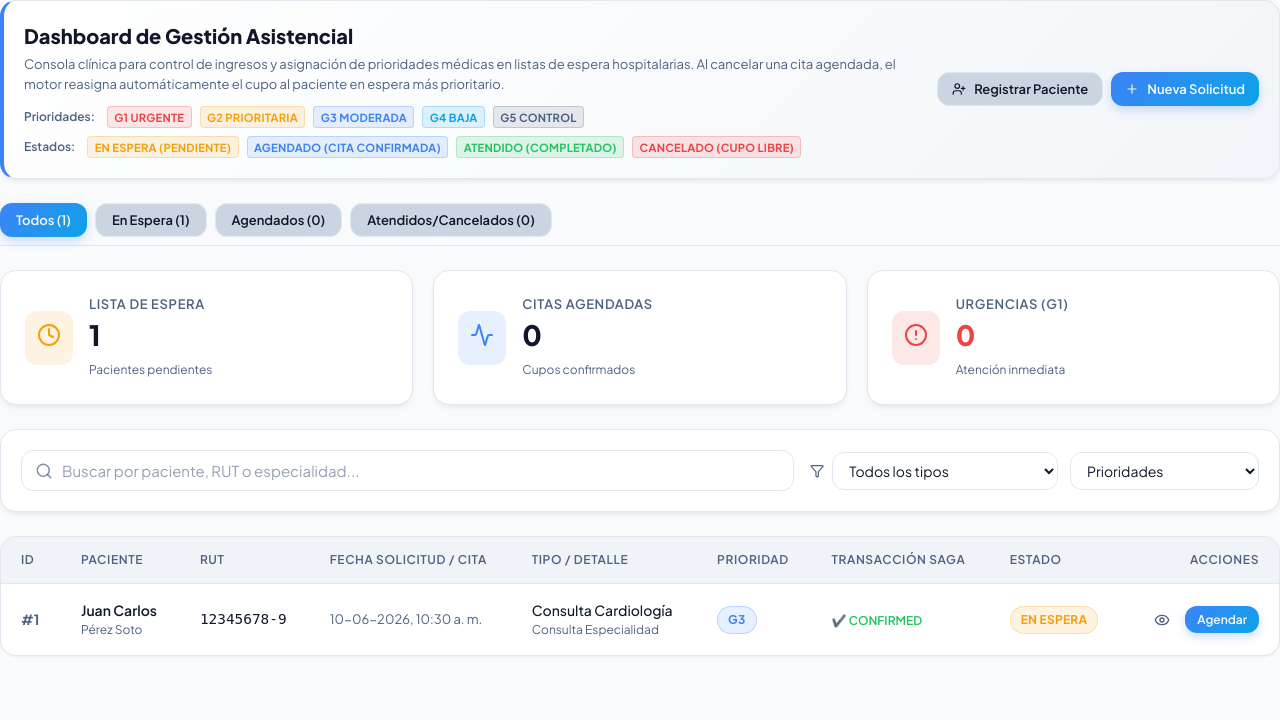
ListaEsperaContainer › debe mostrar error de validación local si faltan campos en el formulario de atención
Click the button "Nueva Solicitud".
click(1185, 90)  # box [1111, 72, 1259, 106]
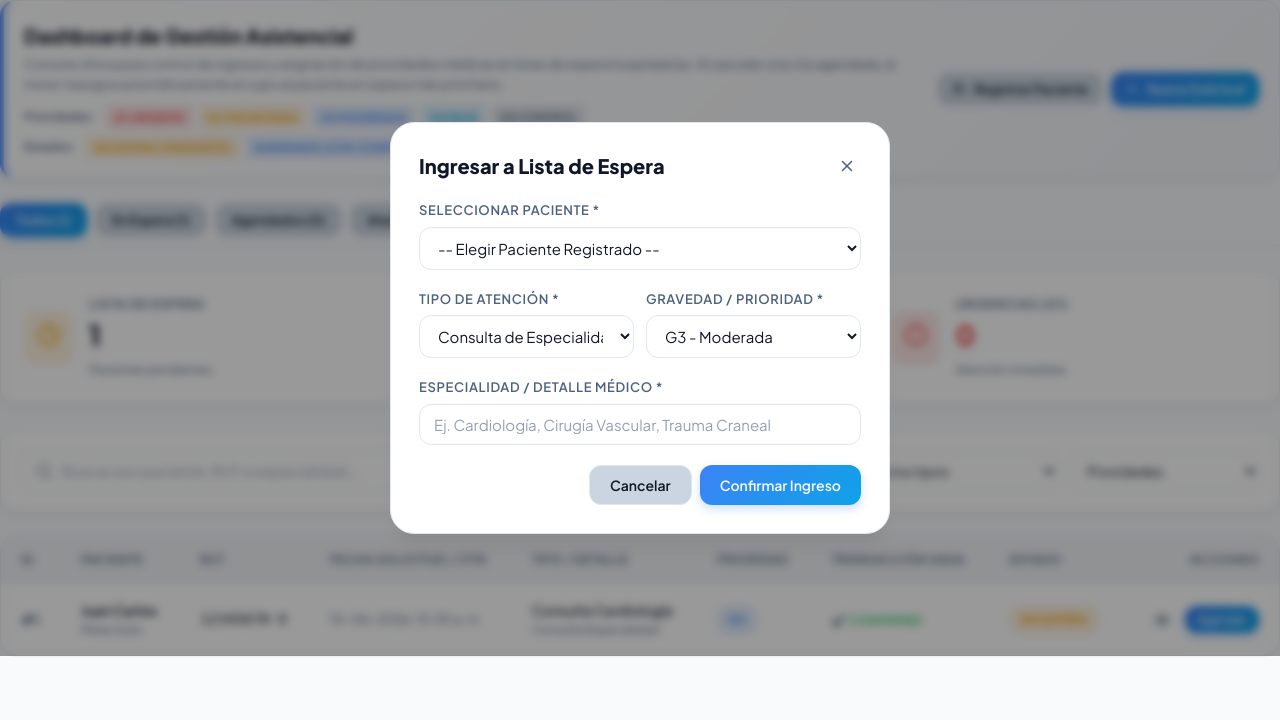
Submit the form, box [419, 202, 861, 505]
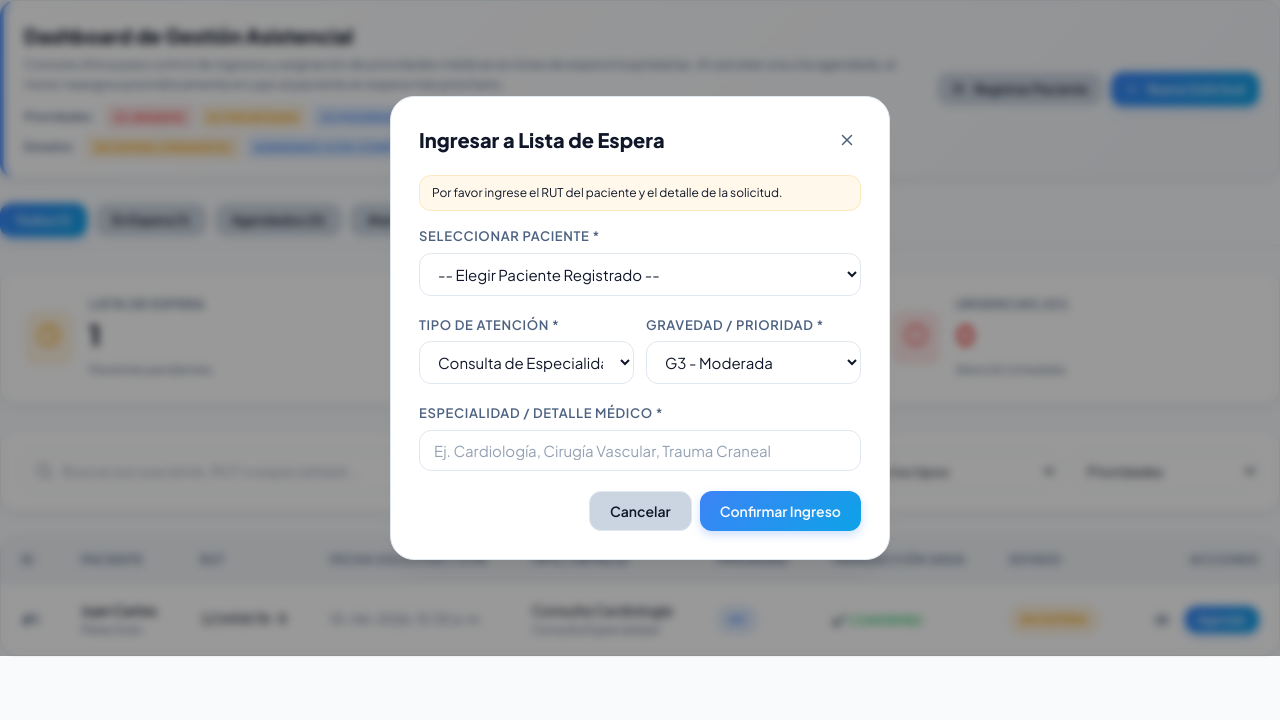
Result: the text "Por favor ingrese el RUT del paciente y el detalle de la solicitud." is shown at [419, 176, 861, 212]
